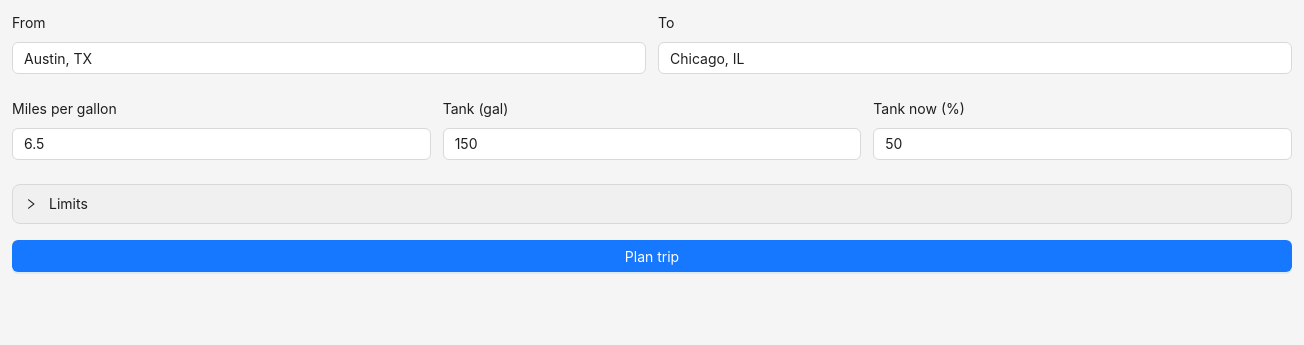
Test: a 422 shows the detail above the button
Click the button "Plan trip" at (652, 256), box [12,240,1292,272]
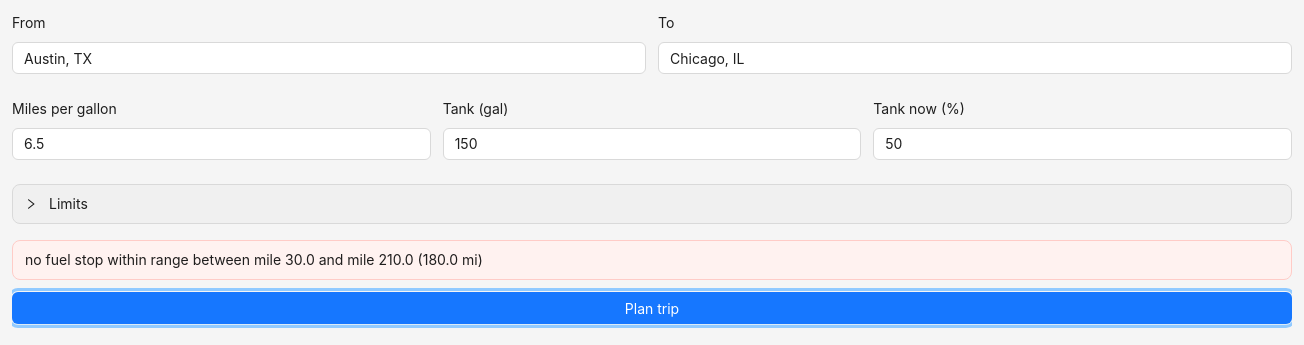
Now the text "no fuel stop within range between mile 30.0 and mile 210.0 (180.0 mi)" is shown, box [25,251,483,268]
